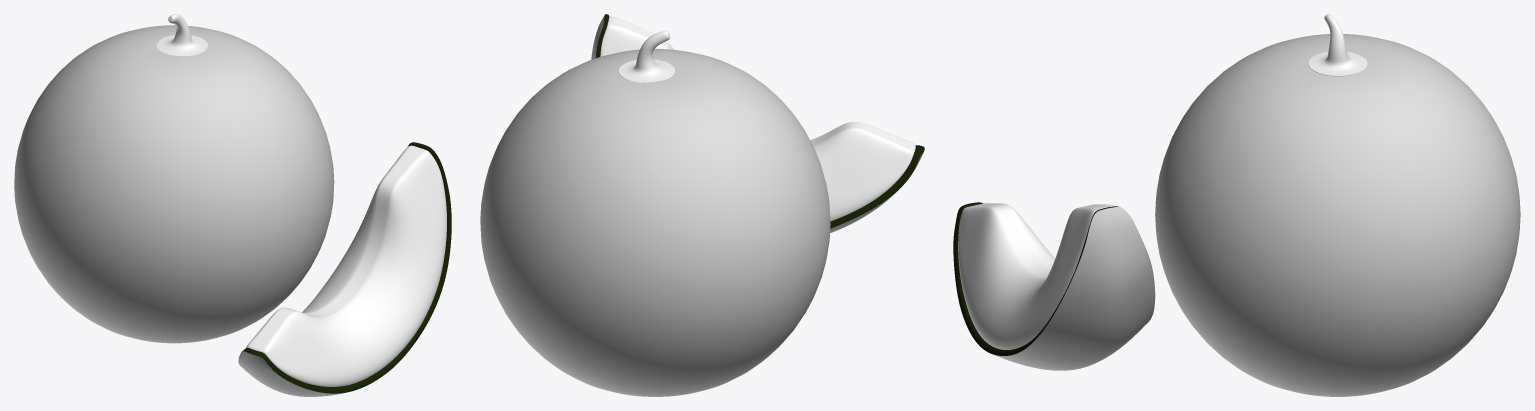
File: Melon.glb
3 views of the same model, side by side, from view 1: azimuth 30°, elevation 25°; view 2: azimuth 150°, elevation 25°; view 3: azimuth 270°, elevation 25° (orthographic). The views are drawn at different scales.
Parts seen in each view (by area): view 1: Sphere.161, Sphere.162, Sphere.163, Sphere.175; view 2: Sphere.161, Sphere.162, Sphere.175, Sphere.163; view 3: Sphere.161, Sphere.163, Sphere.162, Sphere.175.
Boxes of the visible parts, x1,y1,x2,y2 form: Sphere.161: (14,25,334,343); Sphere.162: (245,145,446,386); Sphere.163: (238,142,451,396); Sphere.175: (156,14,207,56); Sphere.161: (480,49,830,396); Sphere.162: (600,16,915,221); Sphere.175: (618,31,674,82); Sphere.163: (591,14,924,232); Sphere.161: (1155,34,1520,396); Sphere.163: (953,202,1155,370); Sphere.162: (958,203,1116,349); Sphere.175: (1308,14,1367,76).
Size of the model in its own units: 5.97 by 5.88 by 8.56.
